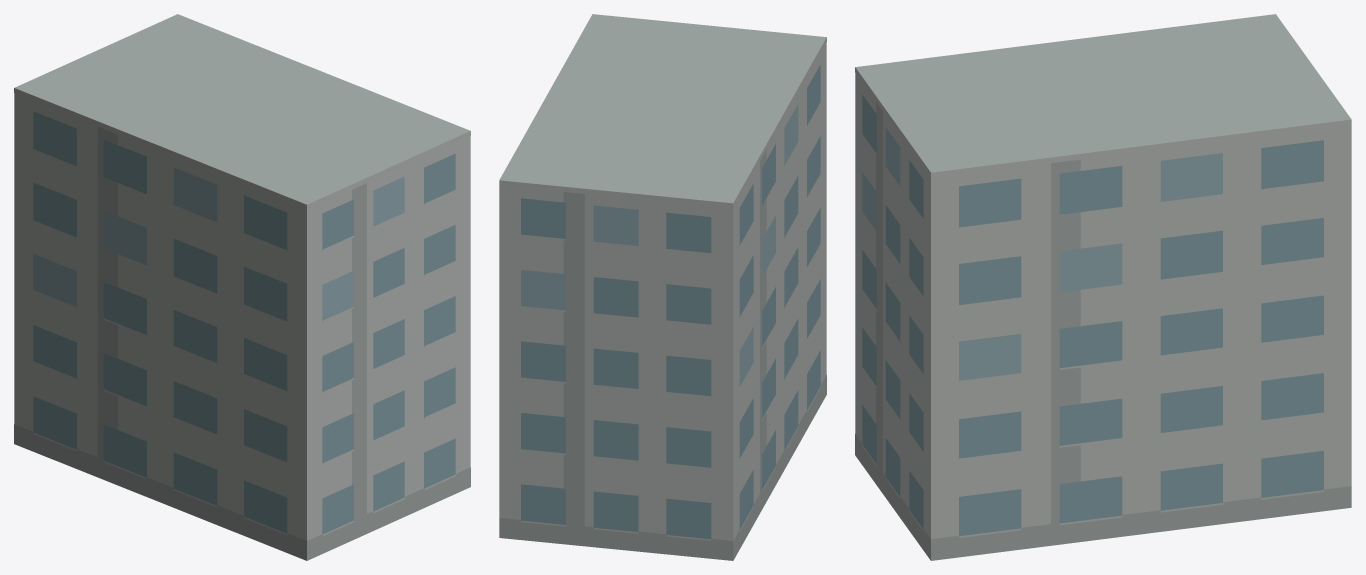
Rendered from survey-upis-32766652.glb.
The picture shows the model from 3 angles, left to right: view 1: azimuth 30°, elevation 25°; view 2: azimuth 150°, elevation 25°; view 3: azimuth 270°, elevation 25°; orthographic projection. The views are drawn at different scales.
Visible parts, largest first — view 1: survey-upis-32766652.tmp; view 2: survey-upis-32766652.tmp; view 3: survey-upis-32766652.tmp.
Part boxes in pixels (x1=…): survey-upis-32766652.tmp: x1=14, y1=14, x2=470, y2=560; survey-upis-32766652.tmp: x1=499, y1=14, x2=826, y2=560; survey-upis-32766652.tmp: x1=855, y1=14, x2=1351, y2=560.
Bounding box in the file's own units: 14.57 × 16.6 × 19.25.
